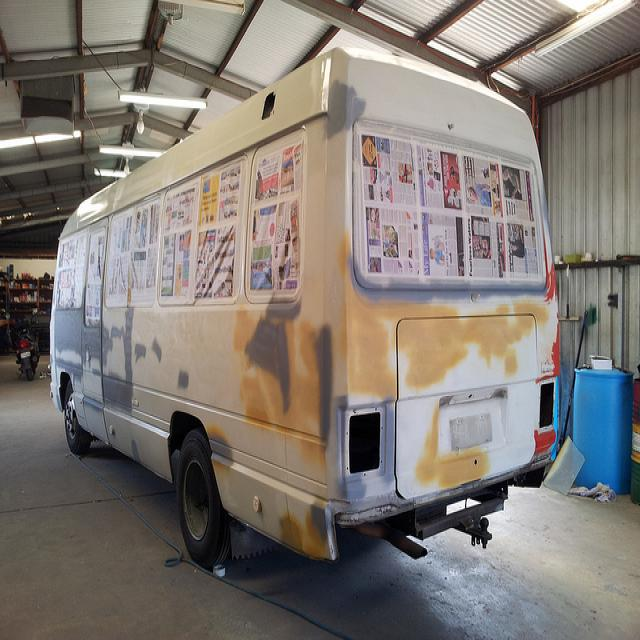motor: (6, 310, 39, 380)
